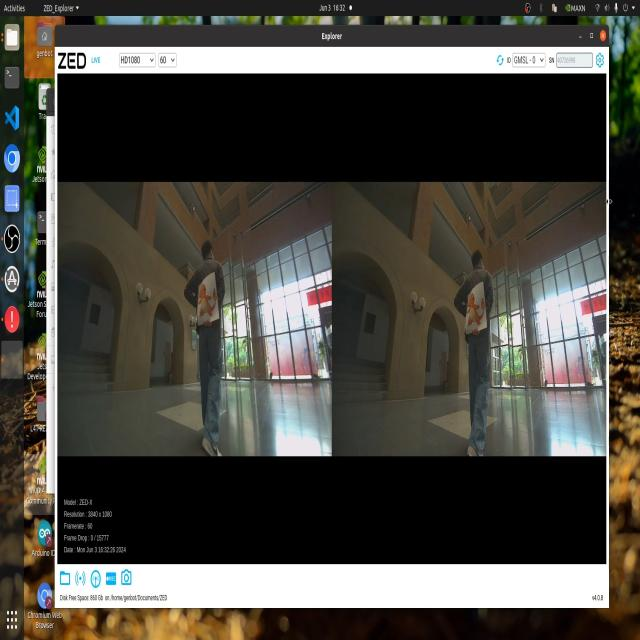red: (445, 288, 489, 333), (194, 268, 217, 325)
